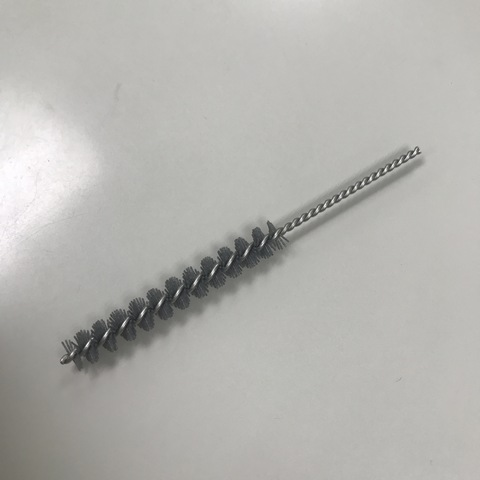Twist Brush-A: (59, 145, 421, 370)
